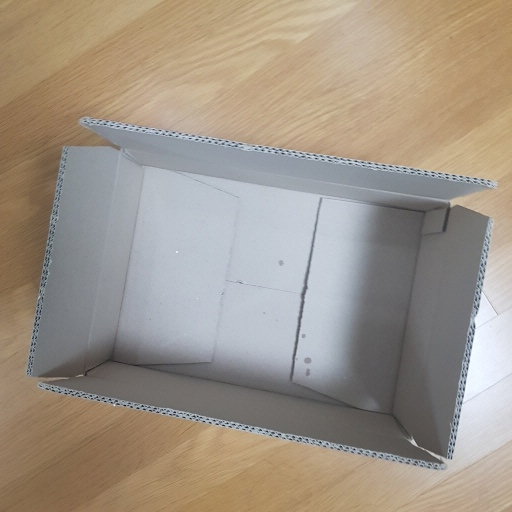Paper_0: (22, 107, 500, 477)
